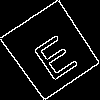E: (25, 25, 80, 83)
